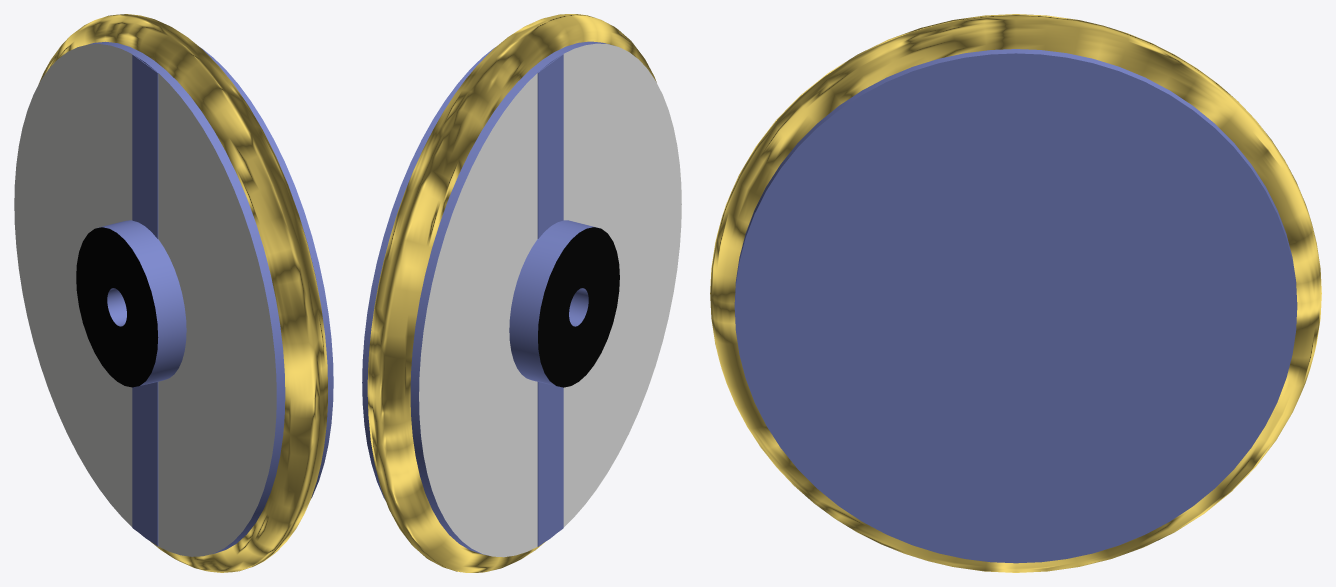
The model's file is wheel2.dae.
The picture shows the model from 3 angles, left to right: view 1: azimuth 30°, elevation 25°; view 2: azimuth 150°, elevation 25°; view 3: azimuth 270°, elevation 25°; orthographic projection. The views are drawn at different scales.
Parts seen in each view (by area): view 1: Body1.001, Body1; view 2: Body1.001, Body1; view 3: Body1.001, Body1.
Part boxes in pixels (x1,y1,x2,y2): Body1.001: [14, 41, 333, 556]; Body1: [38, 14, 327, 572]; Body1.001: [362, 41, 681, 557]; Body1: [367, 14, 656, 572]; Body1.001: [734, 49, 1297, 563]; Body1: [710, 14, 1321, 572].
Size of the model in its own units: 0.015 by 0.087 by 0.087.
